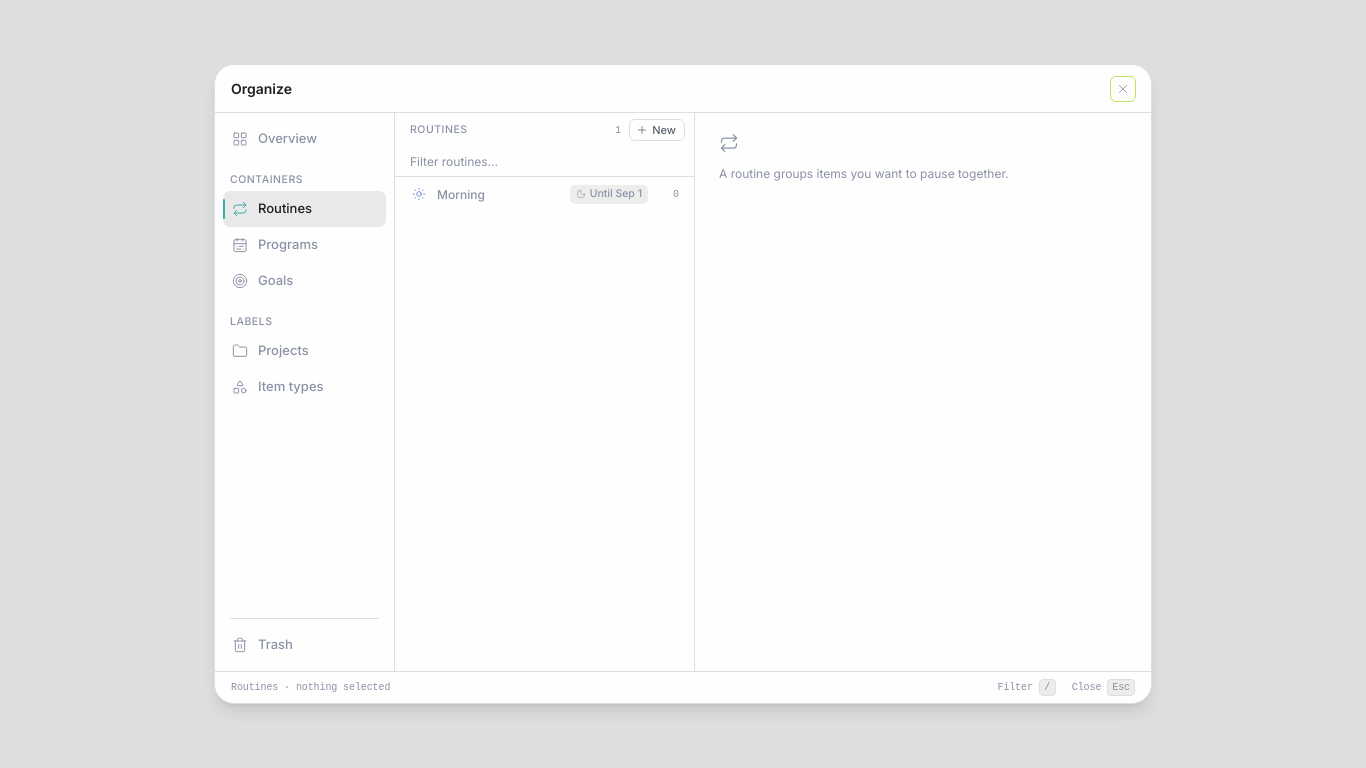
it: the routines section › clears the resume date through the store, not just the spy
Click the button with test id "routine-row": (461,194) 403,177 -> 686,211
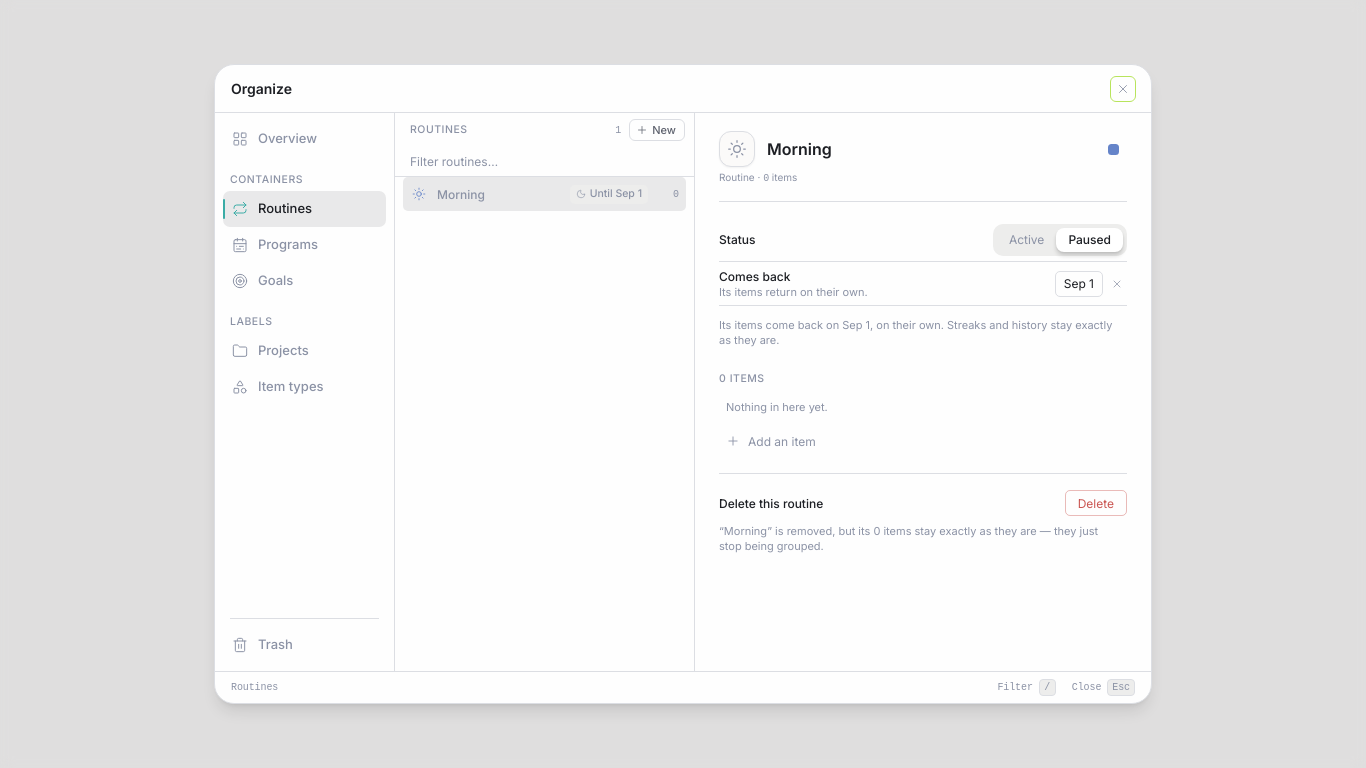
Result: the button with test id "routine-resume" reads "Sep 1" at 1055,270 -> 1103,296
Click the button with test id "routine-resume-clear": (1117,284) 1107,274 -> 1127,294
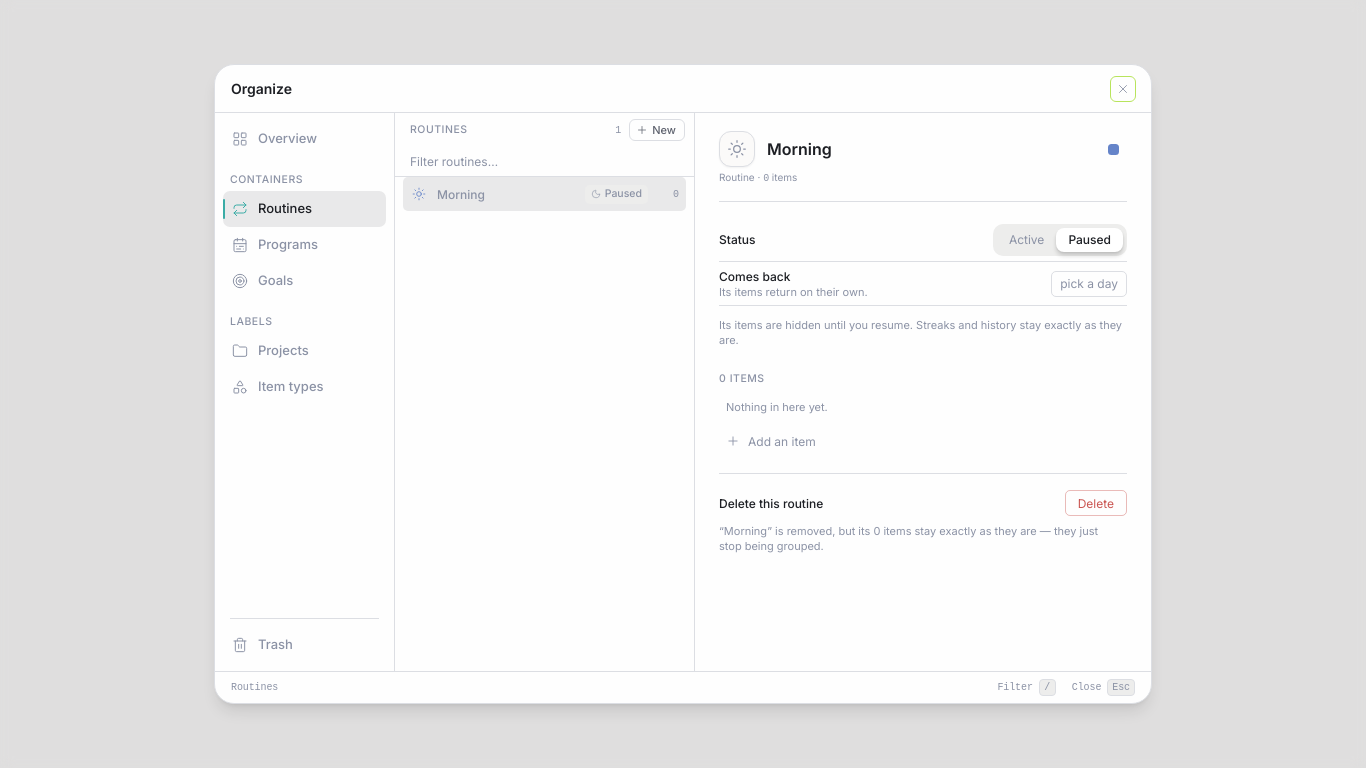
Result: the text with test id "routine-paused-note" shows "hidden until you resume" at 719,318 -> 913,332
